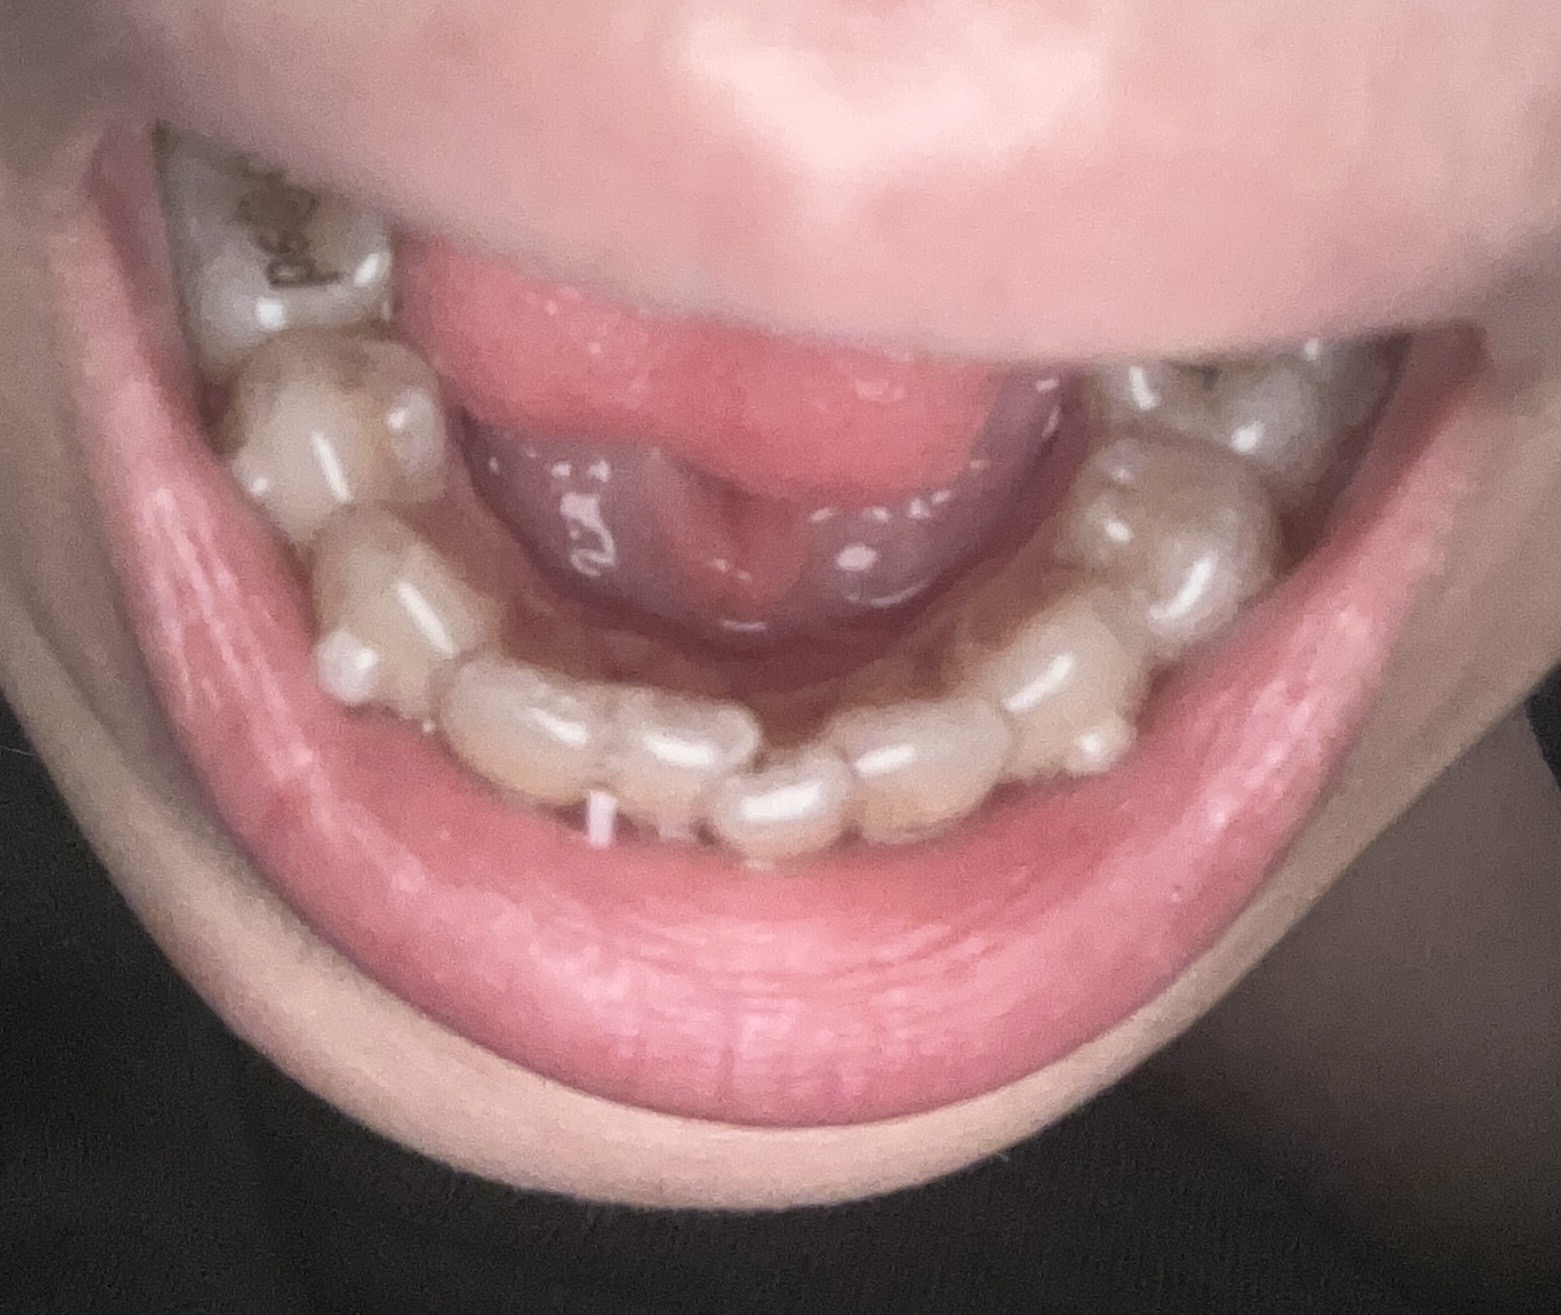teeth: (183, 145, 386, 372), (224, 334, 450, 536), (1067, 449, 1286, 655), (1118, 355, 1375, 492), (313, 509, 486, 704), (964, 587, 1148, 768), (833, 697, 1007, 840), (439, 665, 596, 806), (619, 689, 749, 839), (720, 751, 857, 856)
